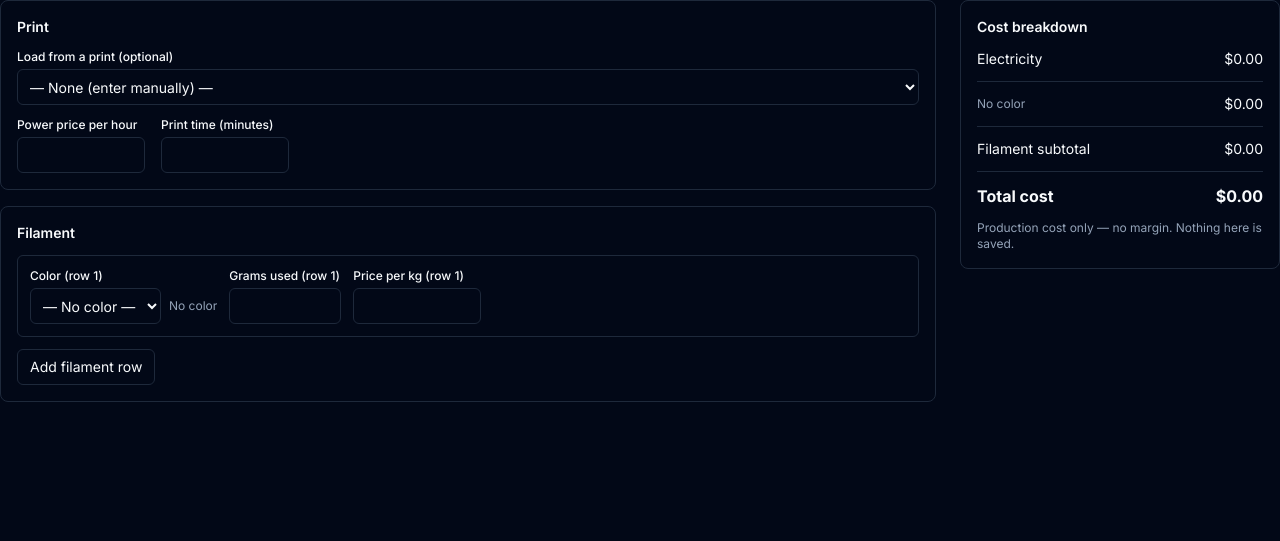
Test: prefill from a print (R5) › fills the time, makes one row per color with grams BLANK, and shows the total-grams hint
Select "Two Color Print" in the dropdown labelled "Load from a print (optional)" at (468,87), box [17,69,919,105]
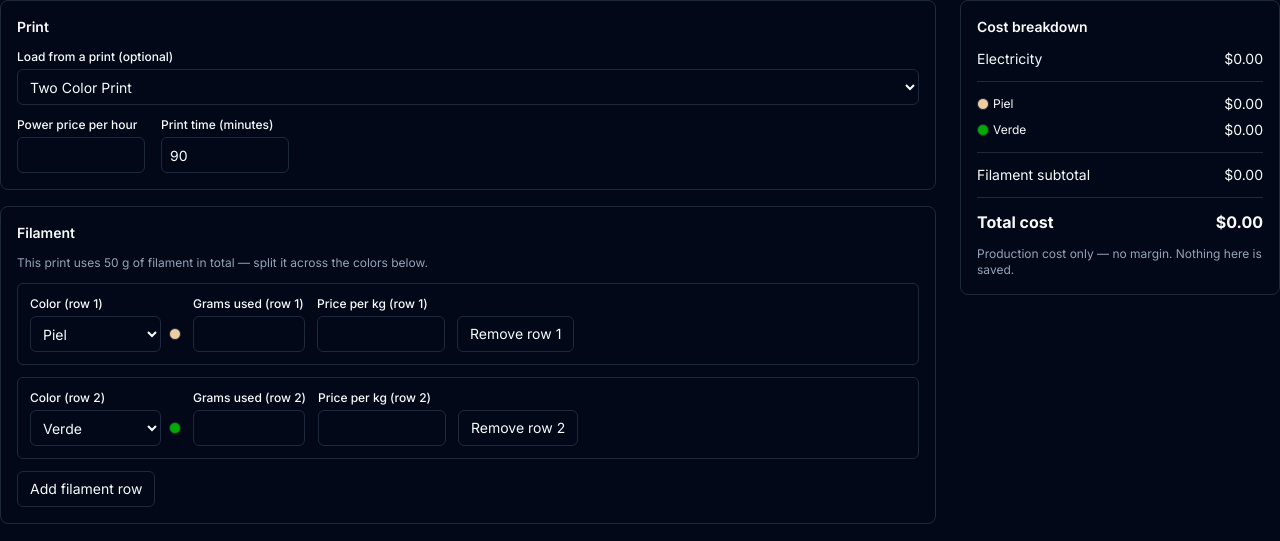
Expected: the number field labelled "Print time (minutes)" holds "90", [161,137,289,173]
Expected: the number of dropdowns labelled "Color (row 1)" is 2, [30,316,161,352]; [30,410,161,446]
Expected: the dropdown labelled "Color (row 1)" shows "Piel", [30,316,161,352]
